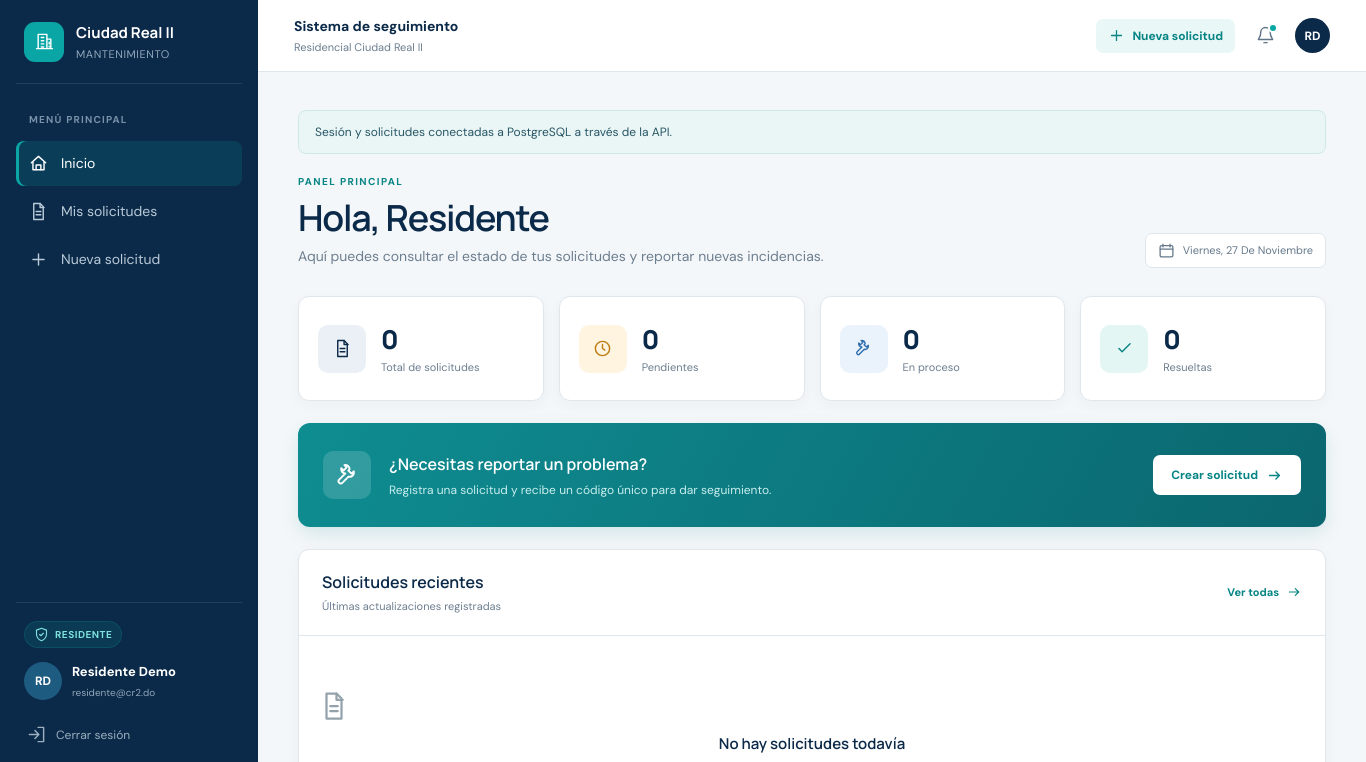
Scenario: carga las categorías desde la API y envía el ID real al registrar
Step 1. Click the button "Nueva solicitud" below "MENÚ PRINCIPAL" → point(129, 260), box [16, 237, 242, 282]
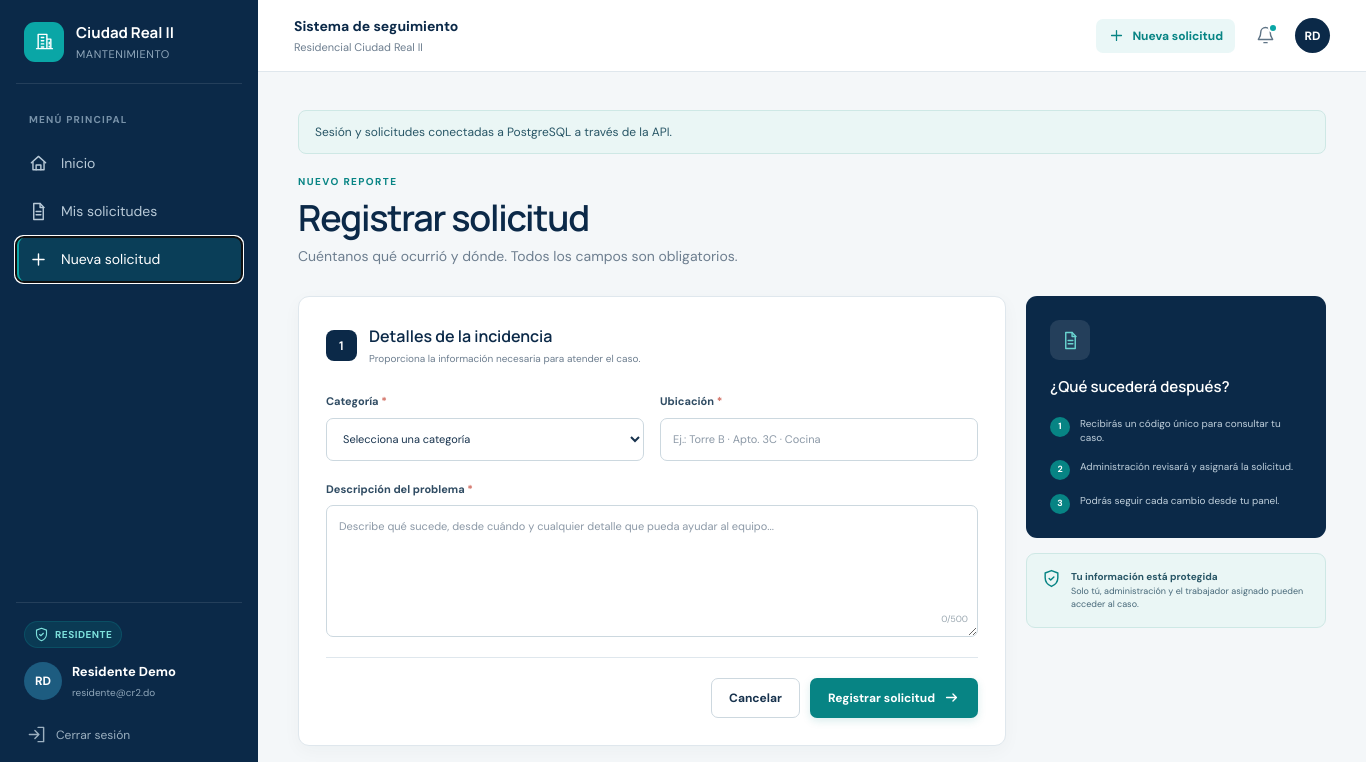
Step 2. Select "Plomería" in the dropdown → point(485, 439), box [326, 418, 644, 461]
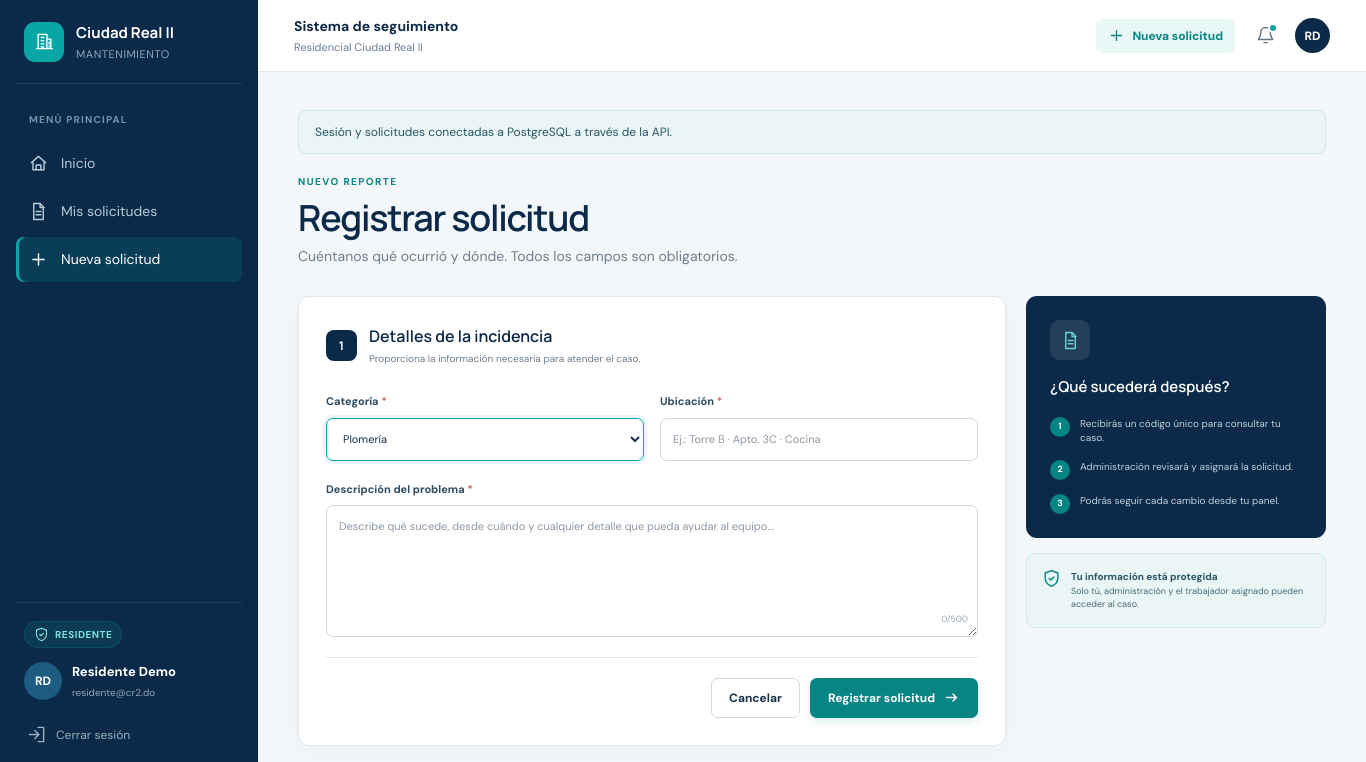
Step 3. Type "Torre B · Apto 3C" into the field with placeholder "Ej.: Torre B · Apto. 3C · Cocina" → point(819, 439), box [660, 418, 978, 461]
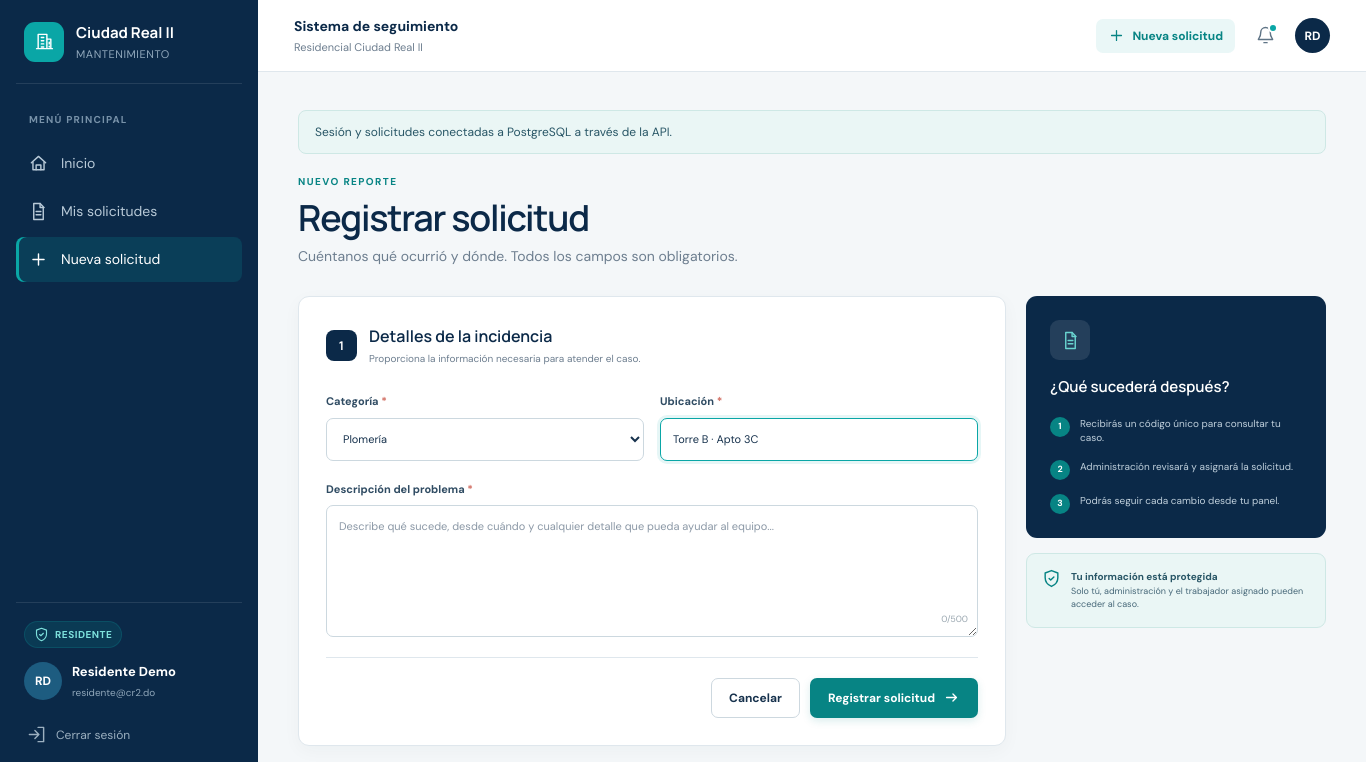
Step 4. Type "Fuga de agua en la cocina del apartamento" into the text box with placeholder "Describe qué sucede" → point(652, 571), box [326, 505, 978, 637]
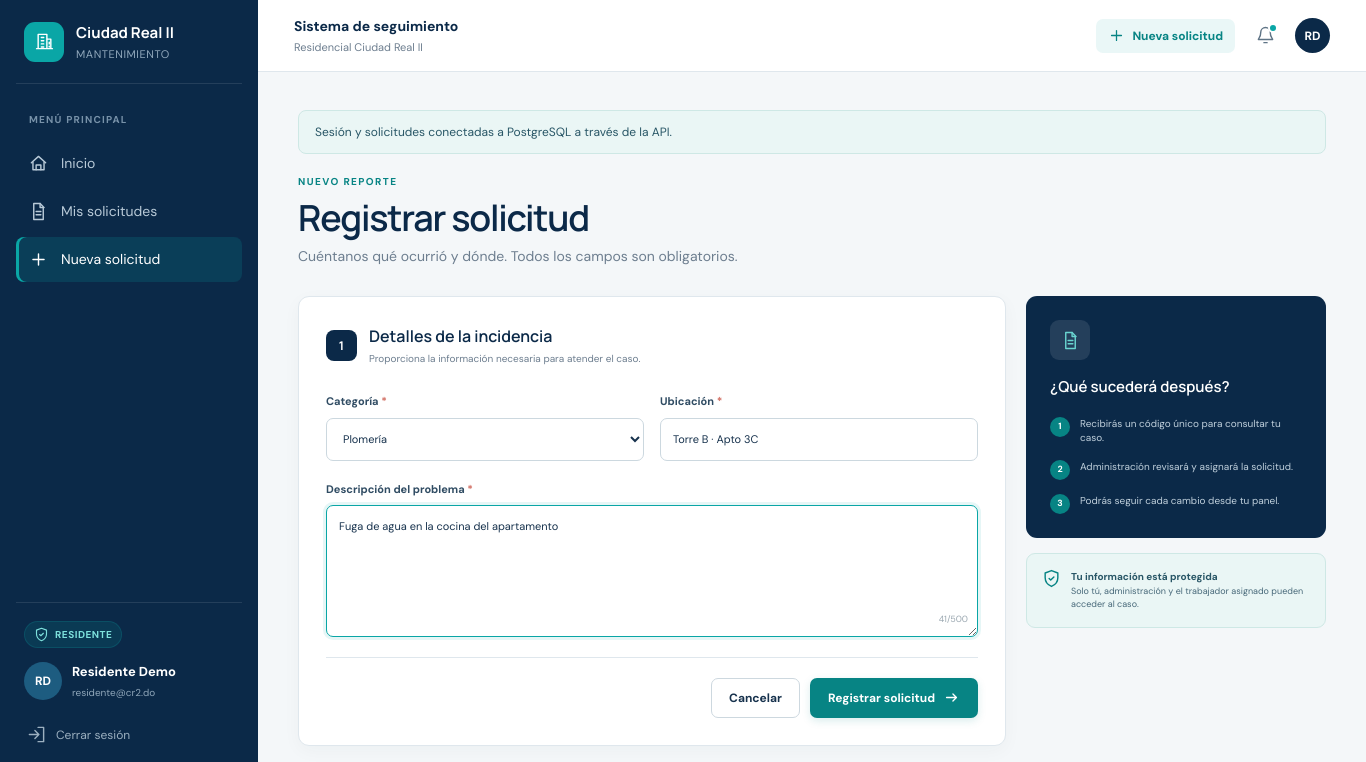
Step 5. Click the button "Registrar solicitud" → point(894, 698), box [810, 678, 978, 718]
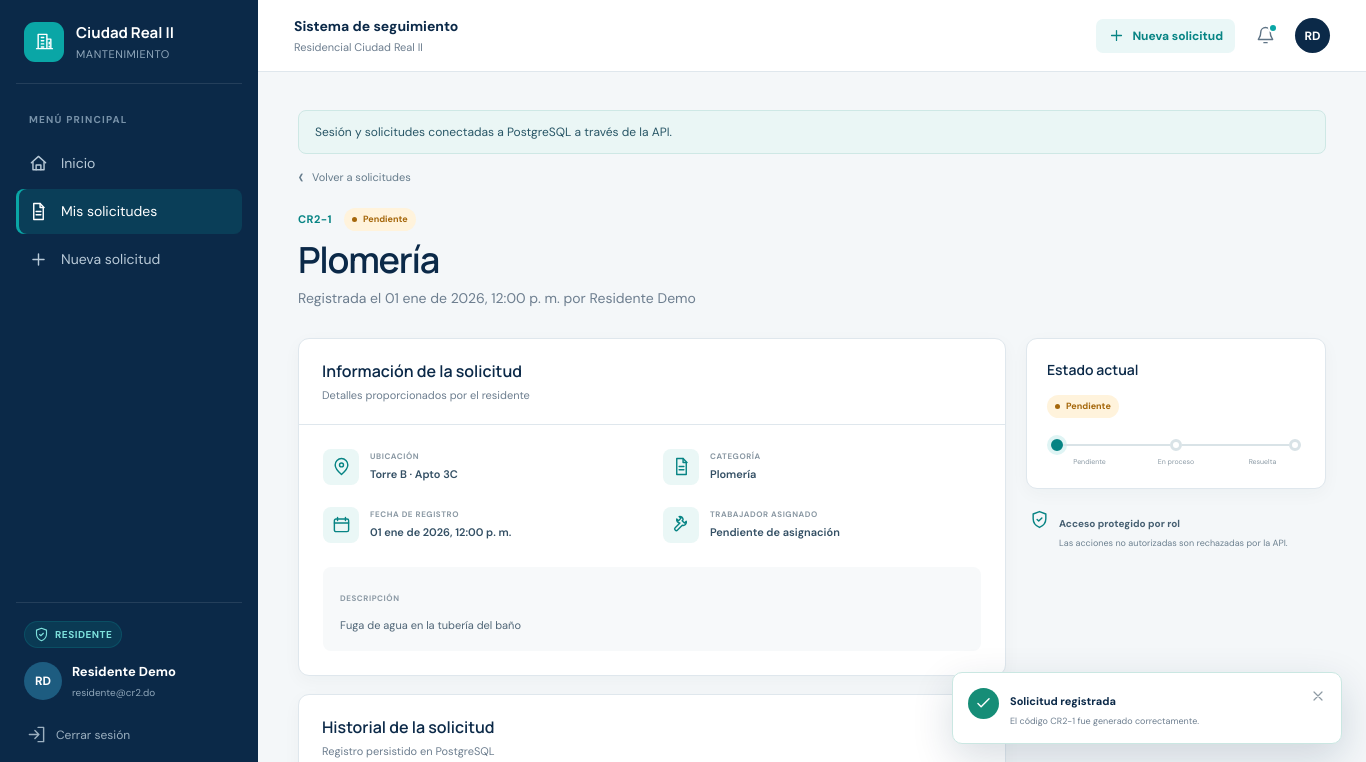
Check: the text "CR2-1" is shown, box [298, 211, 332, 228]
